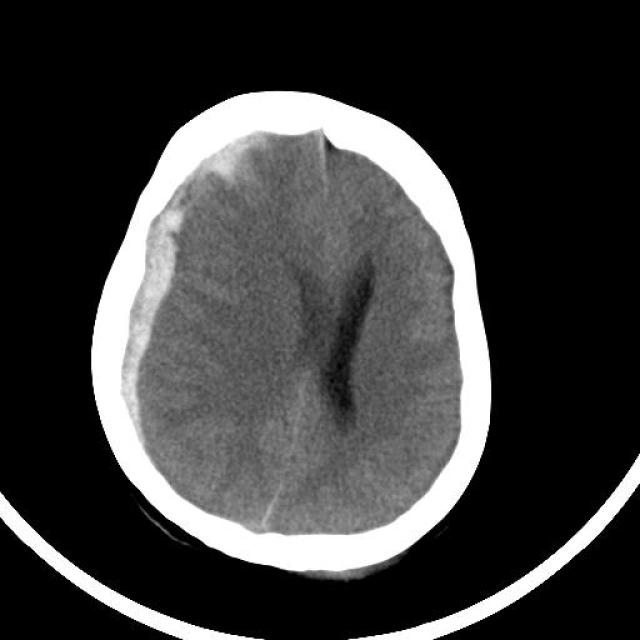Subdural: (55, 130, 285, 485)
